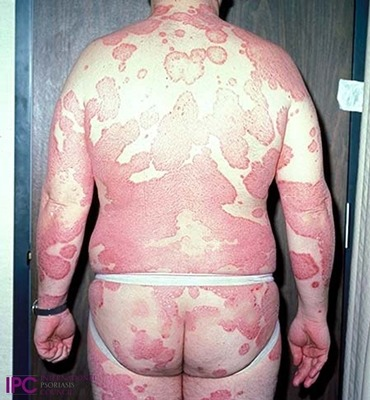Psoriasis: (81, 120, 278, 275), (150, 84, 284, 171), (35, 91, 91, 291), (278, 170, 337, 295), (231, 31, 308, 107), (80, 338, 154, 400), (189, 283, 262, 341), (119, 325, 176, 376), (161, 1, 233, 41), (253, 282, 286, 344), (243, 145, 283, 196), (86, 19, 164, 45), (163, 38, 206, 85), (84, 70, 119, 123), (286, 243, 319, 281), (202, 42, 226, 71), (263, 334, 289, 359), (109, 39, 136, 62), (205, 382, 235, 400)
